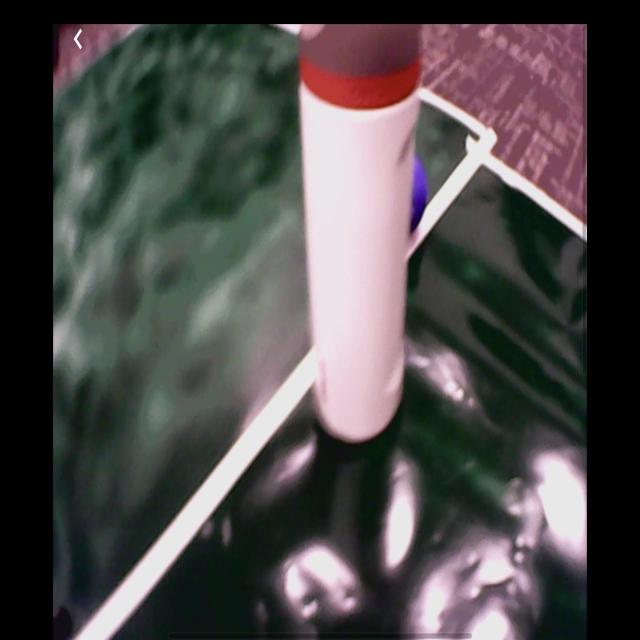ball: (408, 156, 428, 232)
